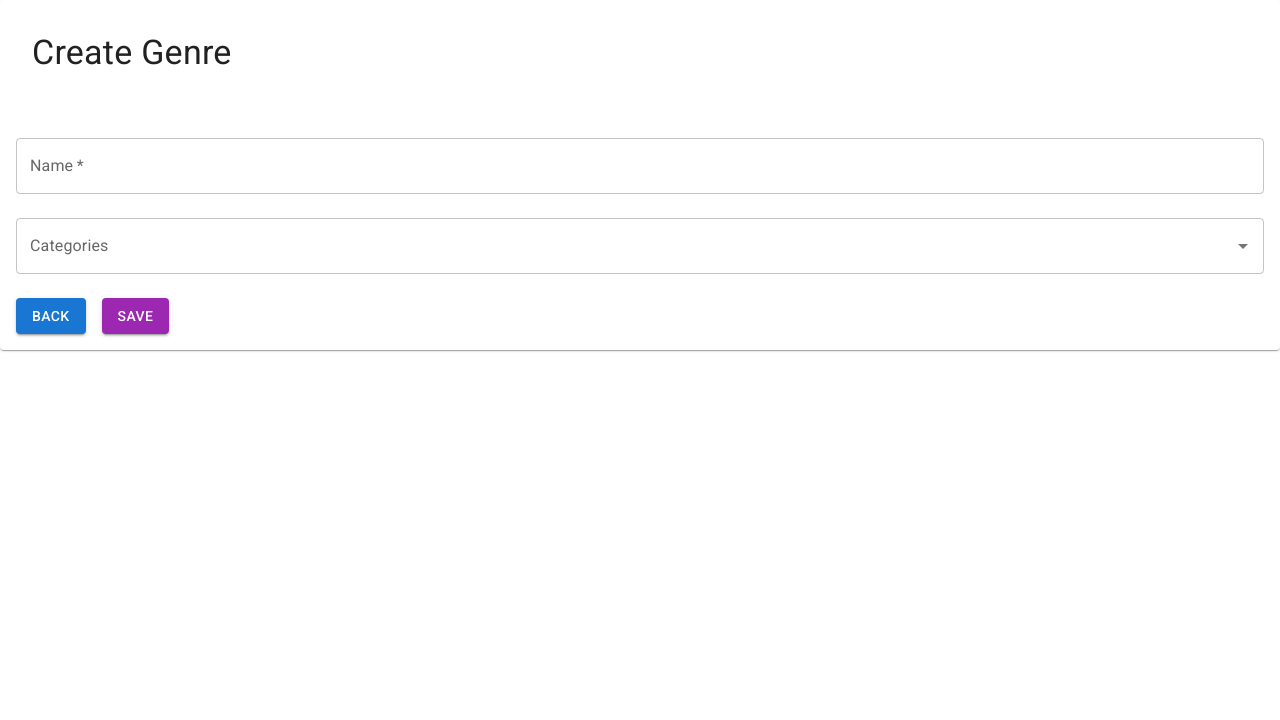
CreateGenre › should handle error
The width and height of the screenshot is (1280, 720).
Expected: the button "Save" is shown, [102,298,169,334]
Type "test" into the field with test id "name".
click(640, 166); type("test")  # box [16,138,1264,194]
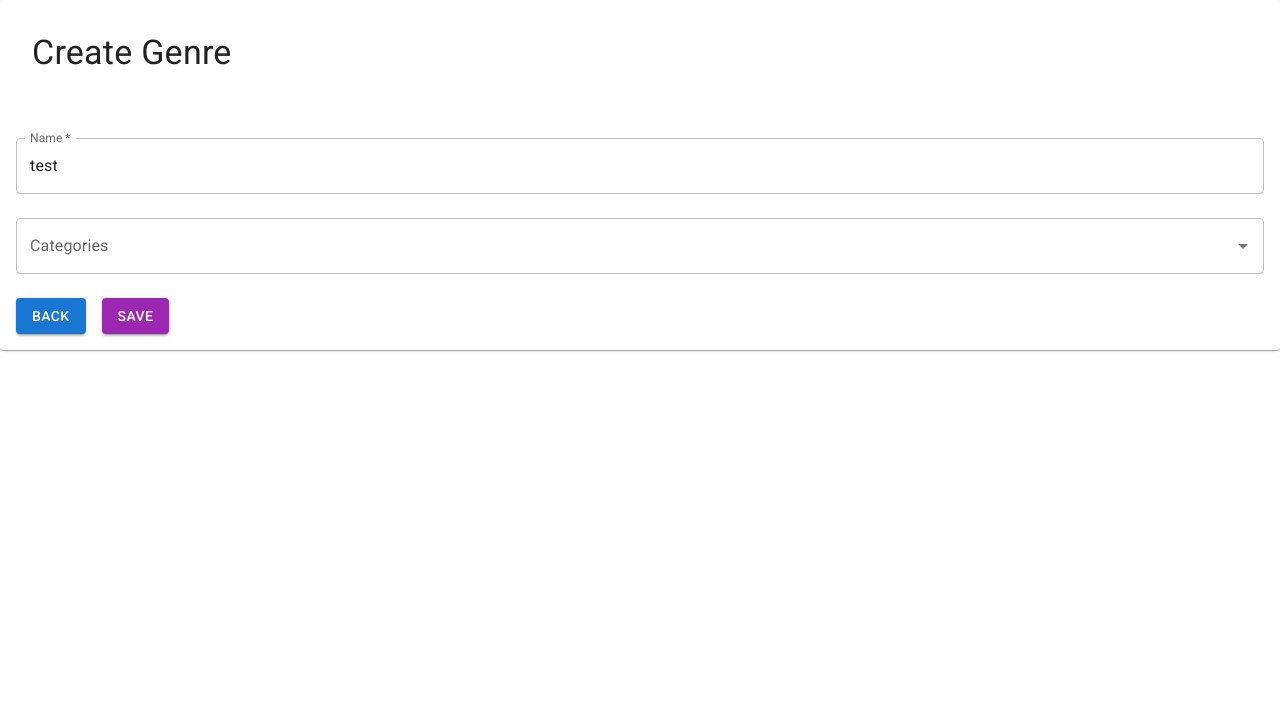
Click the button "Save".
click(136, 316)  # box [102,298,169,334]
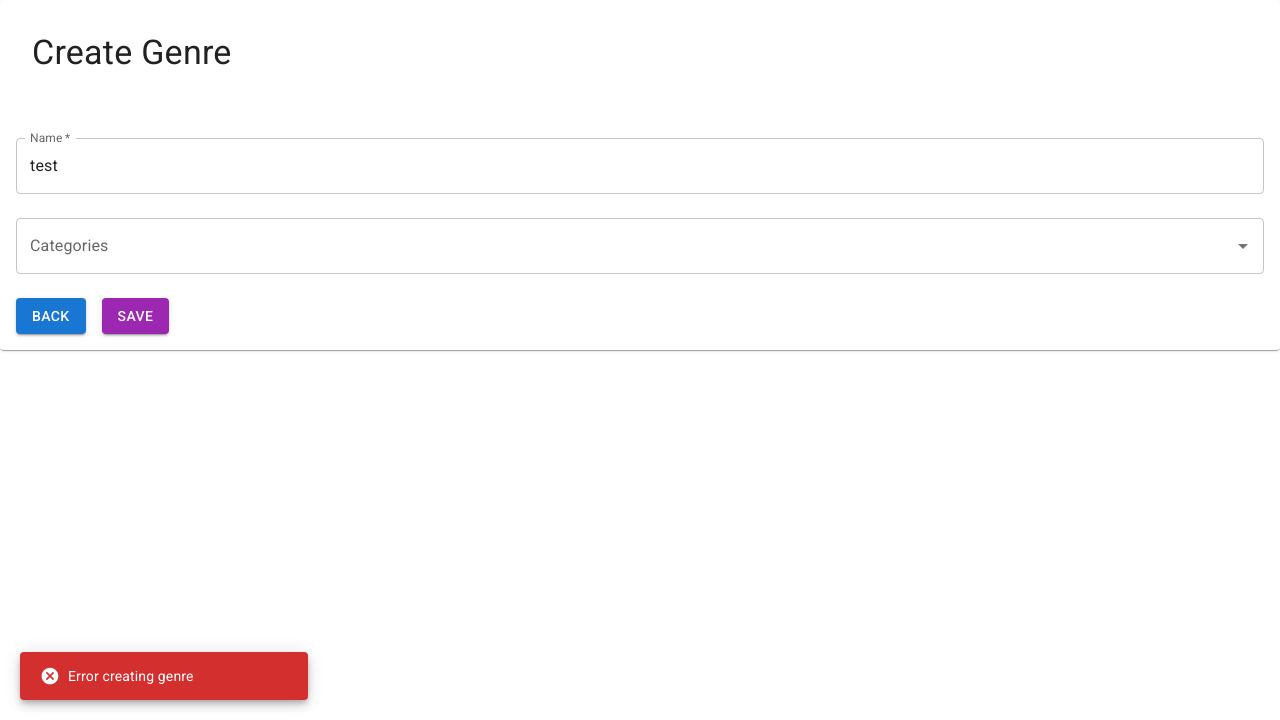
Expected: the text "Error creating genre" is shown, [40,666,194,686]
